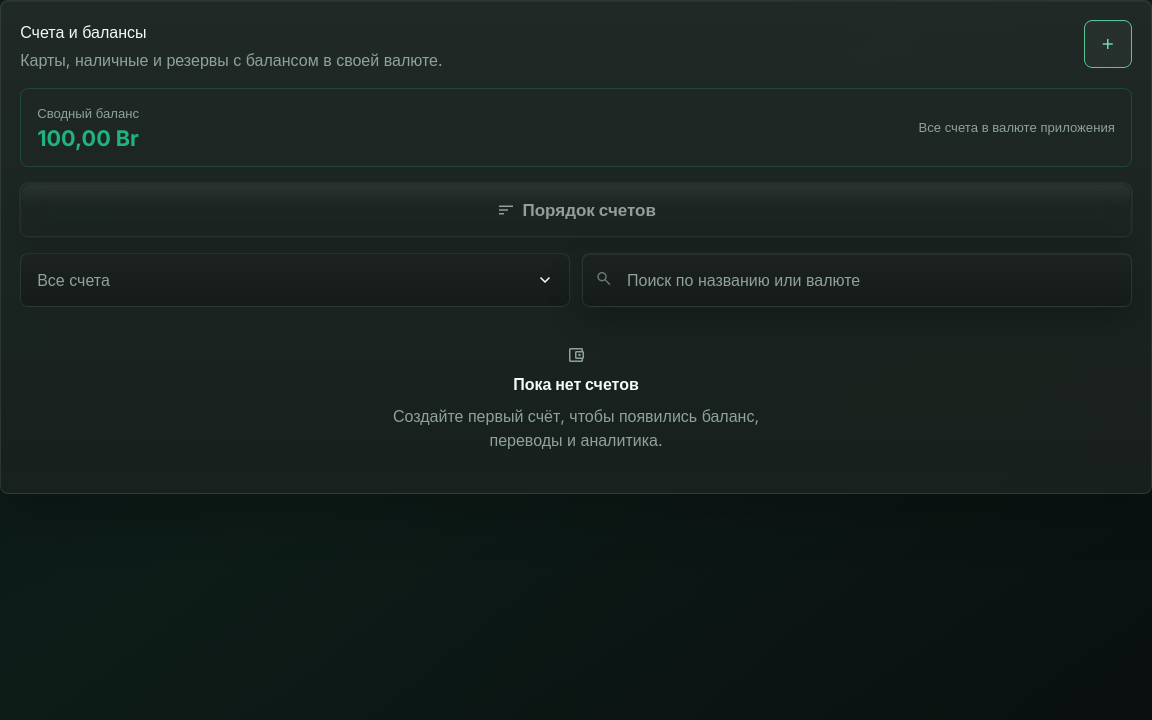
Test: AccountListPanelComponent › keeps account name errors inside the account name field stack
The width and height of the screenshot is (1152, 720).
Click the button with test id "open-account-dialog". click: {"x": 1108, "y": 44}
box: [1084,20,1132,68]
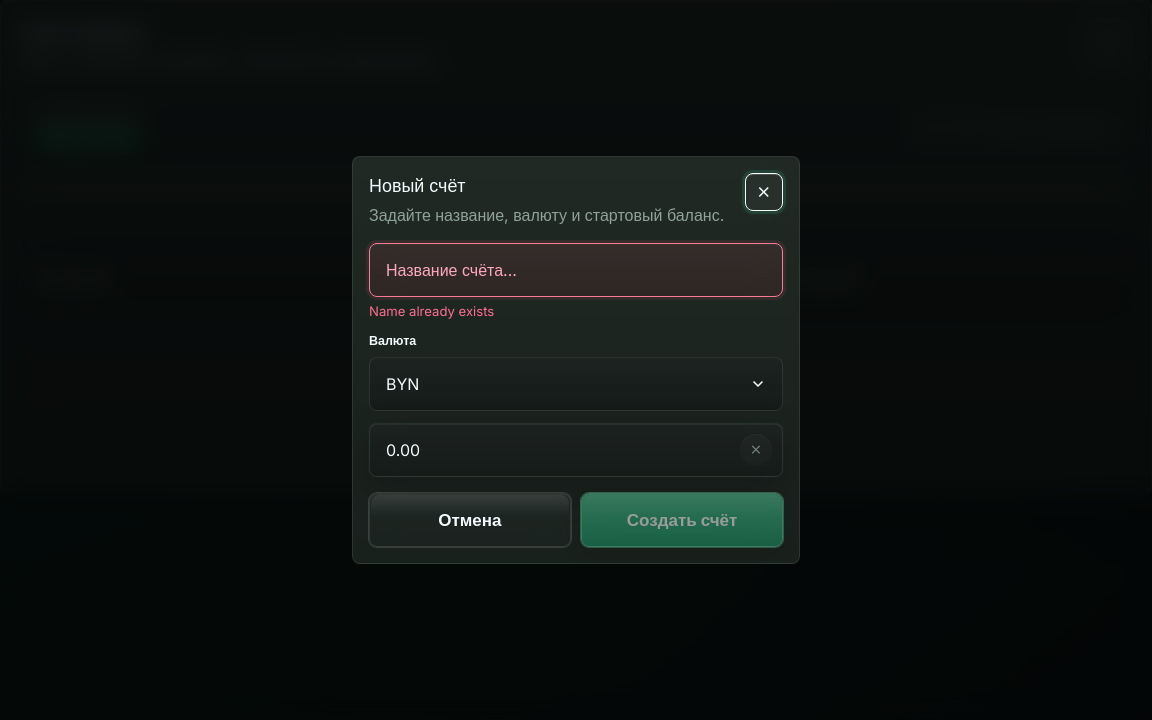
Expected: the element with class "account-dialog__field-stack" is shown, [369,243,783,320]
Expected: the text with class "field-error" reads "Name already exists", [369,303,494,319]
